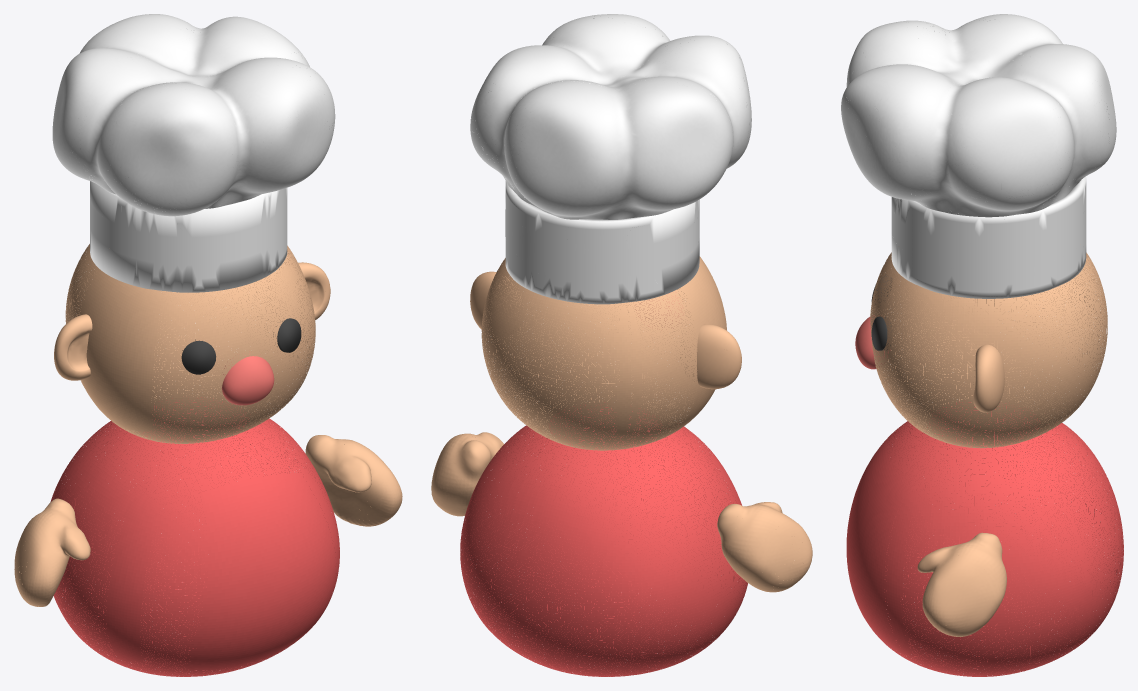
File: little_chef_overcooked_like.glb
The picture shows the model from 3 angles, left to right: view 1: azimuth 30°, elevation 25°; view 2: azimuth 150°, elevation 25°; view 3: azimuth 270°, elevation 25°; orthographic projection.
Visible parts, largest first — view 1: Nose.004, Nose.004_Hat_0.002, Nose.004_Clothe_0.001, Nose.004_Skin_0.001, Nose.004_Hat_0.001, Nose.004_Skin_0.002, Nose.004_Clothe_0.002; view 2: Nose.004, Nose.004_Clothe_0.001, Nose.004_Hat_0.002, Nose.004_Skin_0.001, Nose.004_Clothe_0.002, Nose.004_Skin_0.002, Nose.004_Hat_0.001; view 3: Nose.004, Nose.004_Clothe_0.001, Nose.004_Hat_0.002, Nose.004_Skin_0.002, Nose.004_Hat_0.001, Nose.004_Skin_0.001, Nose.004_Clothe_0.002.
Boxes of the visible parts, box(x1,y1,x2,y2) form: Nose.004: box(14, 29, 402, 676); Nose.004_Hat_0.002: box(52, 14, 335, 285); Nose.004_Clothe_0.001: box(50, 398, 339, 676); Nose.004_Skin_0.001: box(54, 244, 363, 447); Nose.004_Hat_0.001: box(70, 26, 335, 277); Nose.004_Skin_0.002: box(18, 246, 370, 602); Nose.004_Clothe_0.002: box(51, 424, 160, 661); Nose.004: box(431, 46, 812, 676); Nose.004_Clothe_0.001: box(460, 402, 747, 676); Nose.004_Hat_0.002: box(470, 16, 749, 289); Nose.004_Skin_0.001: box(493, 256, 741, 450); Nose.004_Clothe_0.002: box(529, 452, 747, 665); Nose.004_Skin_0.002: box(472, 257, 807, 589); Nose.004_Hat_0.001: box(470, 14, 751, 277); Nose.004: box(846, 43, 1123, 676); Nose.004_Clothe_0.001: box(884, 401, 1123, 676); Nose.004_Hat_0.002: box(841, 14, 1116, 271); Nose.004_Skin_0.002: box(870, 252, 1107, 543); Nose.004_Hat_0.001: box(842, 17, 1109, 217); Nose.004_Skin_0.001: box(885, 253, 1107, 631); Nose.004_Clothe_0.002: box(901, 430, 1123, 607).
Size of the model in its own units: 2.29 by 3.56 by 1.52.
